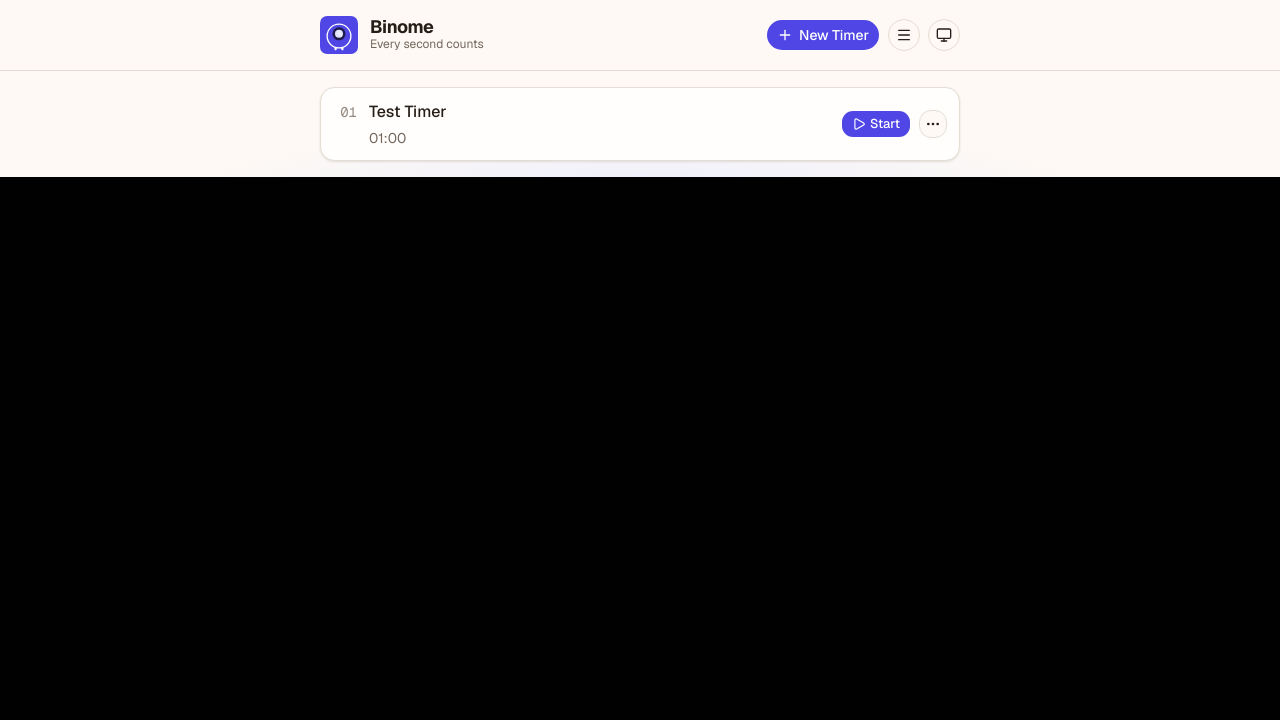
Scenario: TimerList › clone timer sheet › shows "Copy Timer" as the sheet title when Copy is clicked
What coordinates should you click on to do the following:
click the button named "More options for Test Timer"
I would click on:
 (933, 124)
Its box is [919,110,947,138].
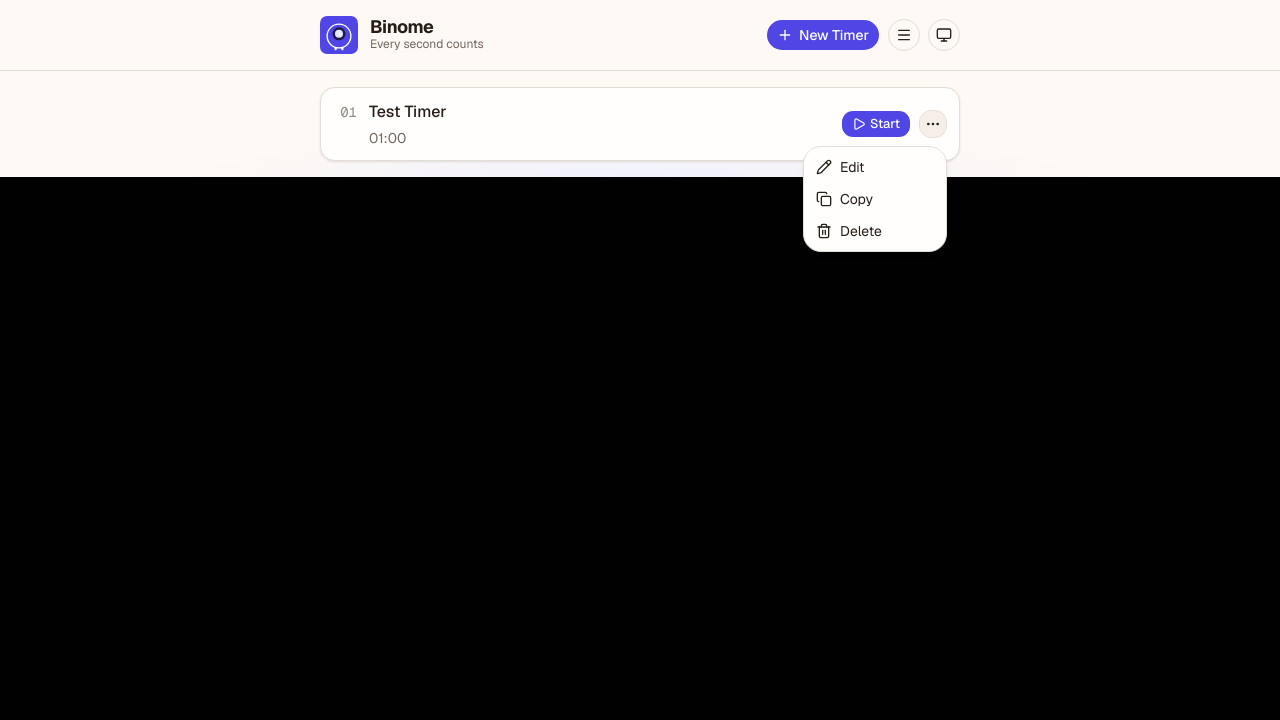
What coordinates should you click on to do the following:
click the menu item "Copy"
I would click on:
 (845, 199)
Its box is [816,190,873,208].
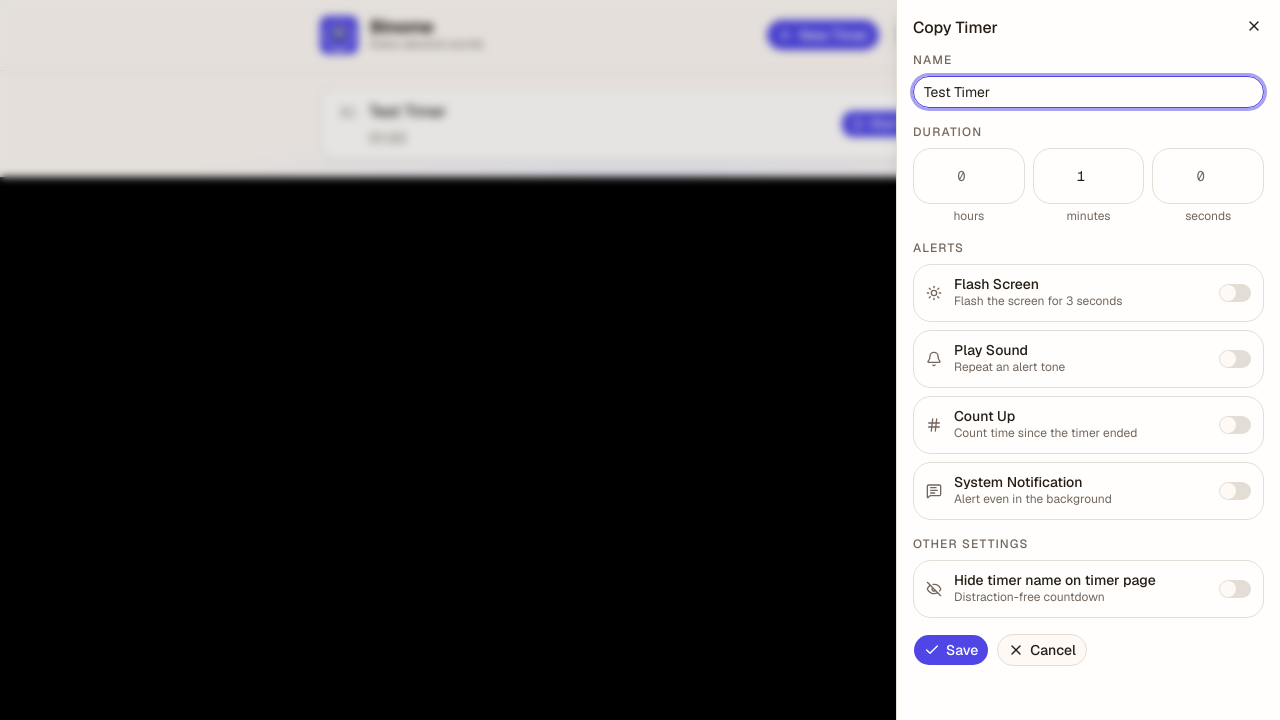
expect the heading "Copy Timer" is shown: met, box [913,17,998,38]
